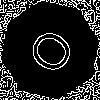O: (25, 25, 85, 83)
